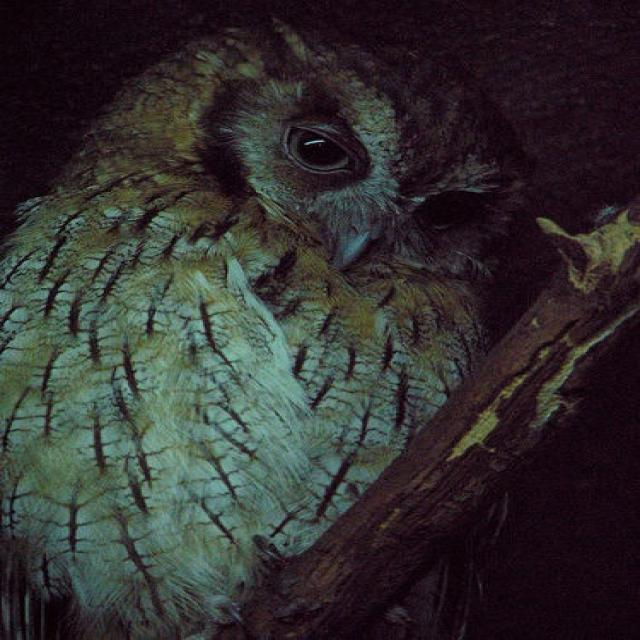bird: (3, 10, 534, 634)
